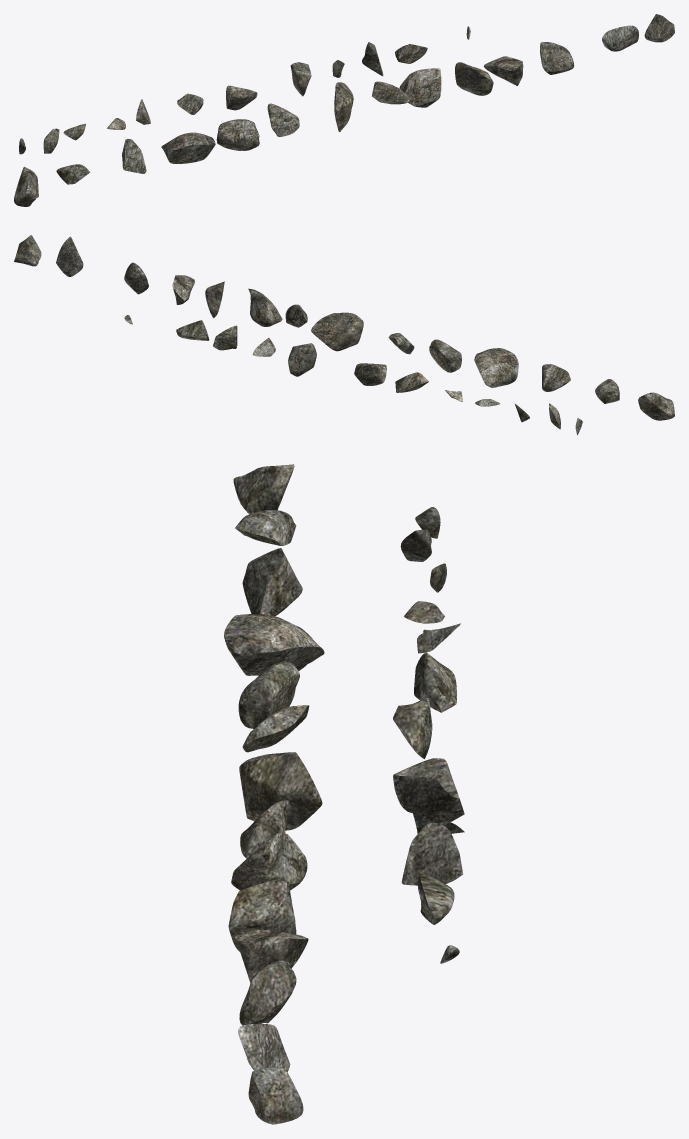
Rendered from Meteors.fbx.
3 renders of one model, top to bottom at view 1: azimuth 30°, elevation 25°; view 2: azimuth 150°, elevation 25°; view 3: azimuth 270°, elevation 25°, orthographic. The views are drawn at different scales.
Parts seen in each view (by area): view 1: Sphere_cell.004, Sphere_cell.024, Sphere_cell.034, Sphere_cell.027, Sphere_cell.022, Sphere_cell.006, Sphere_cell.008, Sphere_cell.007, Sphere_cell.005, Sphere_cell.023, Sphere_cell.026, Sphere_cell.028 (+7 smaller); view 2: Sphere_cell.023, Sphere_cell.004, Sphere_cell.024, Sphere_cell.007, Sphere_cell.012, Sphere_cell.034, Sphere_cell.005, Sphere_cell.031, Sphere_cell.026, Sphere_cell.025, Sphere_cell.022, Sphere_cell.006 (+6 smaller); view 3: Sphere_cell.023, Sphere_cell.004, Sphere_cell.012, Sphere_cell.027, Sphere_cell.026, Sphere_cell.024, Sphere_cell, Sphere_cell.034, Sphere_cell.025, Sphere_cell.022, Sphere_cell.006, Sphere_cell.007 (+7 smaller).
Boxes of the visible parts, left/top/right/bottom form: Sphere_cell.004: left=161, top=132, right=215, bottom=163; Sphere_cell.024: left=399, top=68, right=441, bottom=107; Sphere_cell.034: left=216, top=119, right=259, bottom=150; Sphere_cell.027: left=455, top=62, right=493, bottom=95; Sphere_cell.022: left=540, top=42, right=574, bottom=74; Sphere_cell.006: left=484, top=56, right=523, bottom=85; Sphere_cell.008: left=267, top=103, right=299, bottom=136; Sphere_cell.007: left=14, top=166, right=38, bottom=206; Sphere_cell.005: left=602, top=25, right=638, bottom=51; Sphere_cell.023: left=334, top=82, right=353, bottom=131; Sphere_cell.026: left=122, top=139, right=146, bottom=173; Sphere_cell.028: left=372, top=81, right=411, bottom=104; Sphere_cell.023: left=311, top=312, right=363, bottom=351; Sphere_cell.004: left=474, top=348, right=518, bottom=387; Sphere_cell.024: left=248, top=288, right=282, bottom=326; Sphere_cell.007: left=638, top=392, right=674, bottom=420; Sphere_cell.012: left=288, top=343, right=316, bottom=376; Sphere_cell.034: left=429, top=339, right=461, bottom=372; Sphere_cell.005: left=56, top=236, right=83, bottom=276; Sphere_cell.031: left=354, top=363, right=386, bottom=385; Sphere_cell.026: left=542, top=364, right=570, bottom=391; Sphere_cell.025: left=14, top=235, right=41, bottom=266; Sphere_cell.022: left=124, top=262, right=148, bottom=294; Sphere_cell.006: left=172, top=275, right=194, bottom=304; Sphere_cell.023: left=239, top=752, right=322, bottom=830; Sphere_cell.004: left=224, top=614, right=324, bottom=675; Sphere_cell.012: left=393, top=758, right=464, bottom=821; Sphere_cell.027: left=228, top=880, right=296, bottom=951; Sphere_cell.026: left=242, top=548, right=302, bottom=616; Sphere_cell.024: left=231, top=832, right=307, bottom=890; Sphere_cell: left=401, top=822, right=463, bottom=885; Sphere_cell.034: left=238, top=661, right=299, bottom=728; Sphere_cell.025: left=248, top=1067, right=303, bottom=1124; Sphere_cell.022: left=239, top=960, right=296, bottom=1025; Sphere_cell.006: left=235, top=929, right=308, bottom=983; Sphere_cell.007: left=233, top=464, right=294, bottom=513.
Size of the model in its own units: 1882 by 110 by 300.
